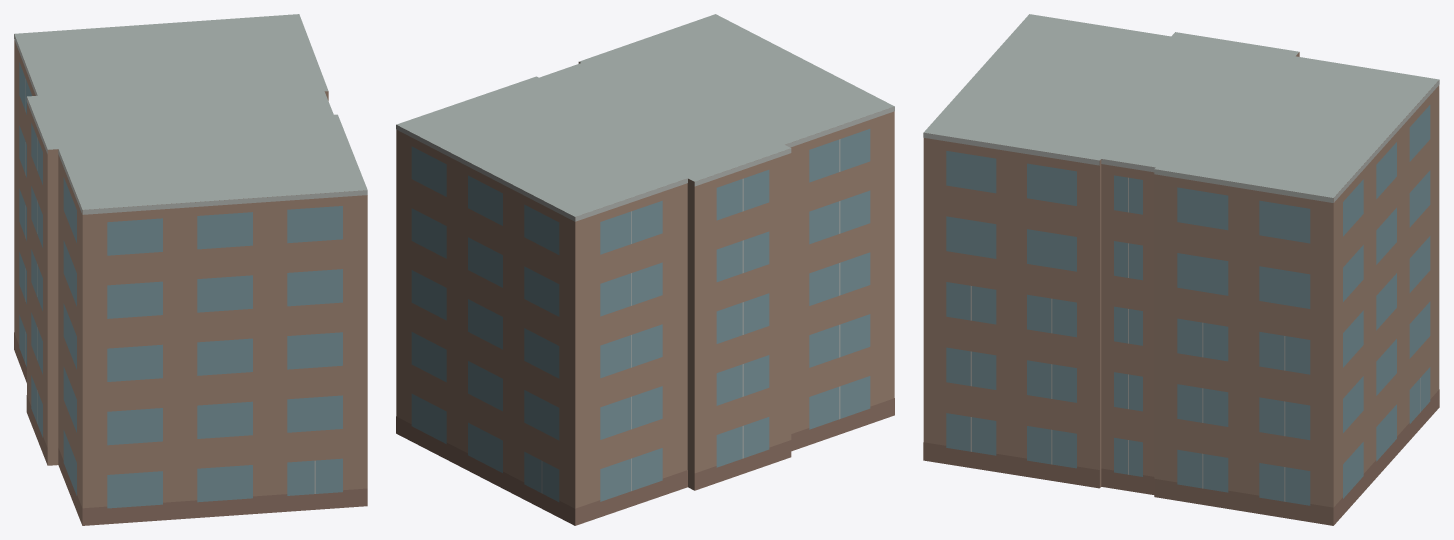
The model's file is survey-upis-32888553.glb.
The picture shows the model from 3 angles, left to right: view 1: azimuth 30°, elevation 25°; view 2: azimuth 150°, elevation 25°; view 3: azimuth 270°, elevation 25°; orthographic projection. The views are drawn at different scales.
Parts seen in each view (by area): view 1: survey-upis-32888553.tmp; view 2: survey-upis-32888553.tmp; view 3: survey-upis-32888553.tmp.
Part boxes in pixels (x1,y1,x2,y2): survey-upis-32888553.tmp: (14, 14, 367, 525); survey-upis-32888553.tmp: (396, 14, 894, 525); survey-upis-32888553.tmp: (923, 14, 1439, 525).
Bounding box in the file's own units: 18.79 × 15.6 × 22.26.
